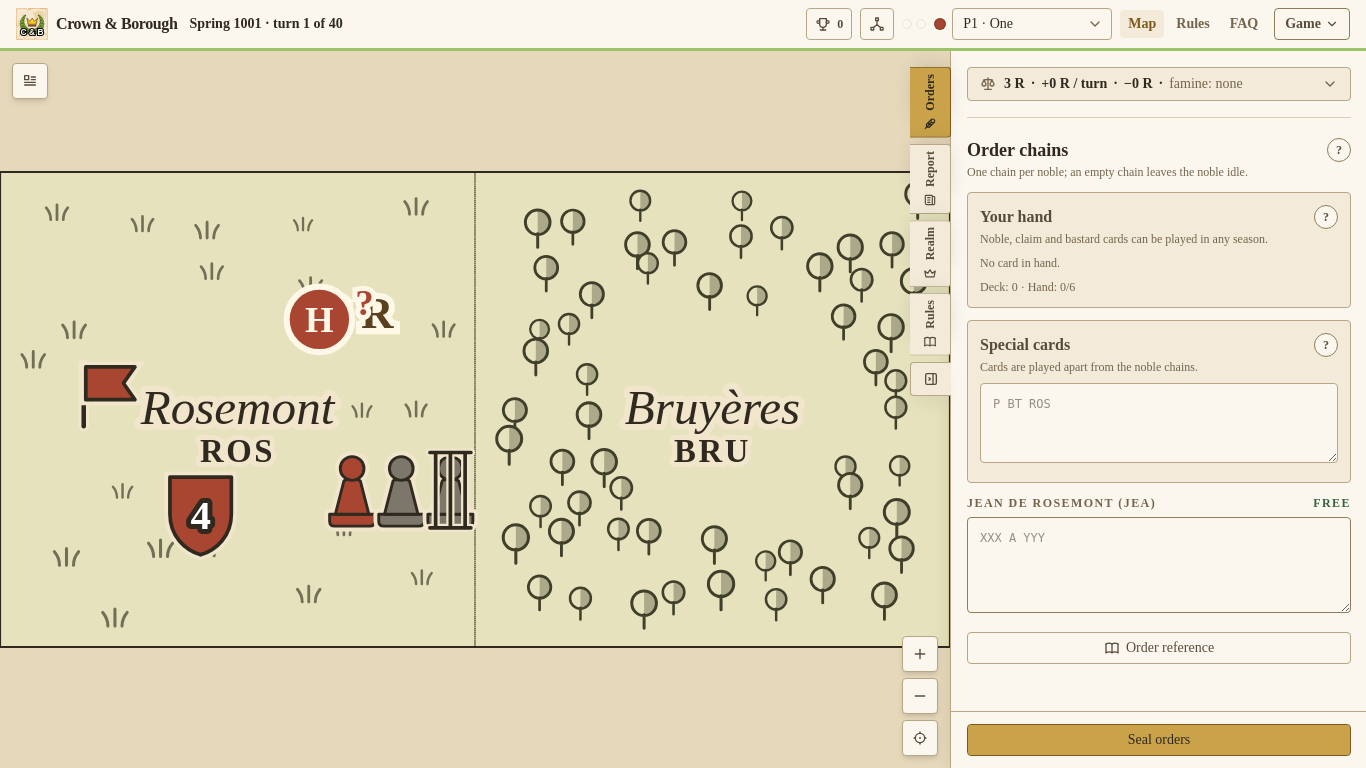
Test: App command/report tabs › renders a resolved private response containing combat and order details
Expected: the text "Spring 1001 · turn 1 of 40" is shown, [189,14,343,34]
Click the button "Game". click: (1312, 24)
box: [1274,8,1350,40]
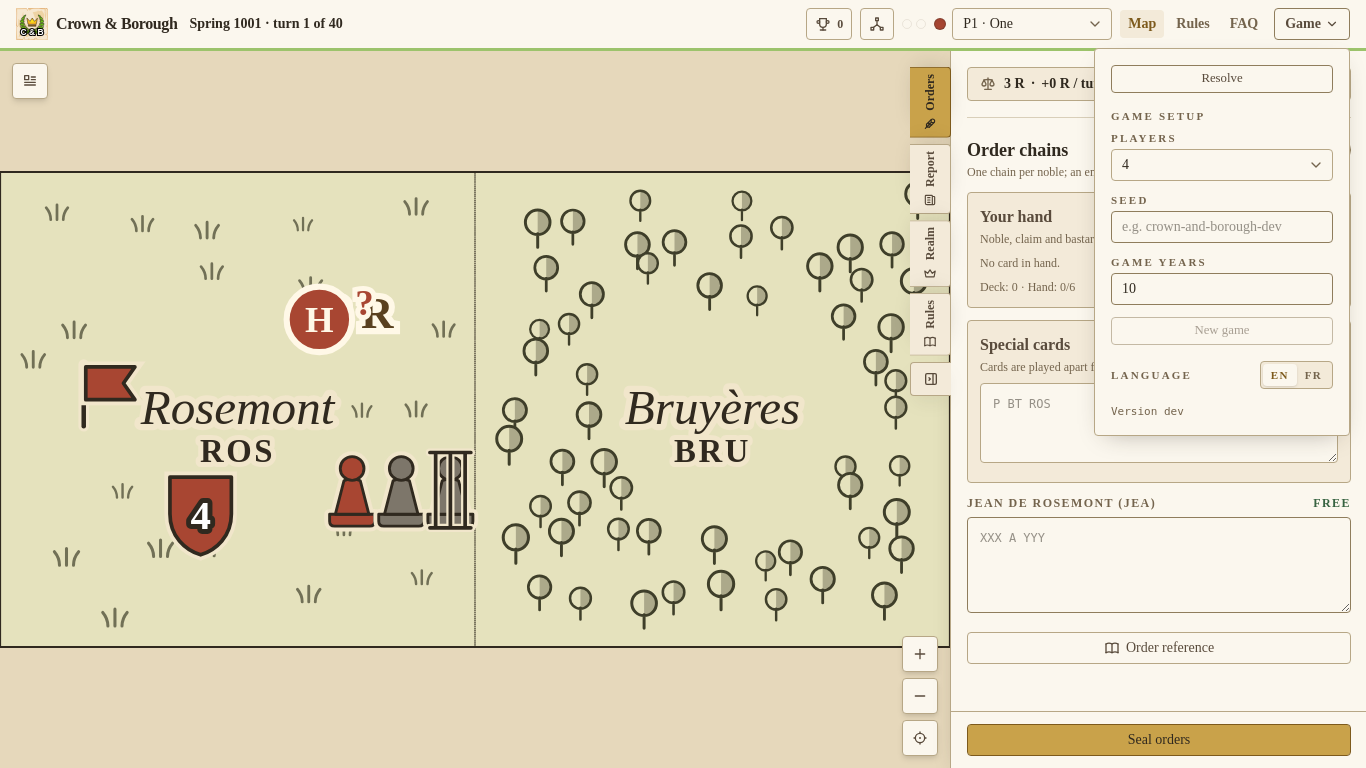
Click the button "Resolve". click: (1222, 79)
box: [1111,65,1333,93]
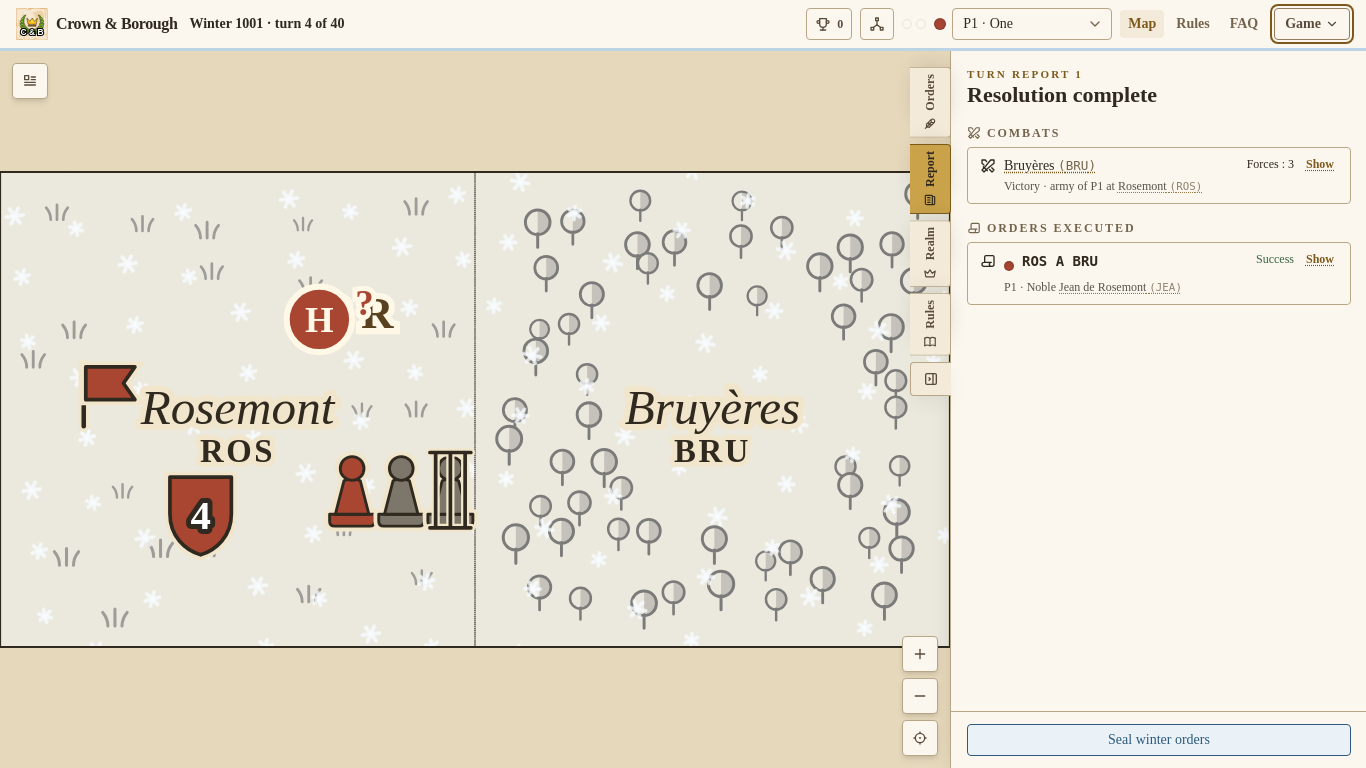
Now the text "Turn report 1" is shown, box [967,68,1083,80]
Now the text "Forces : 3" is shown, box [1247,156,1294,172]
